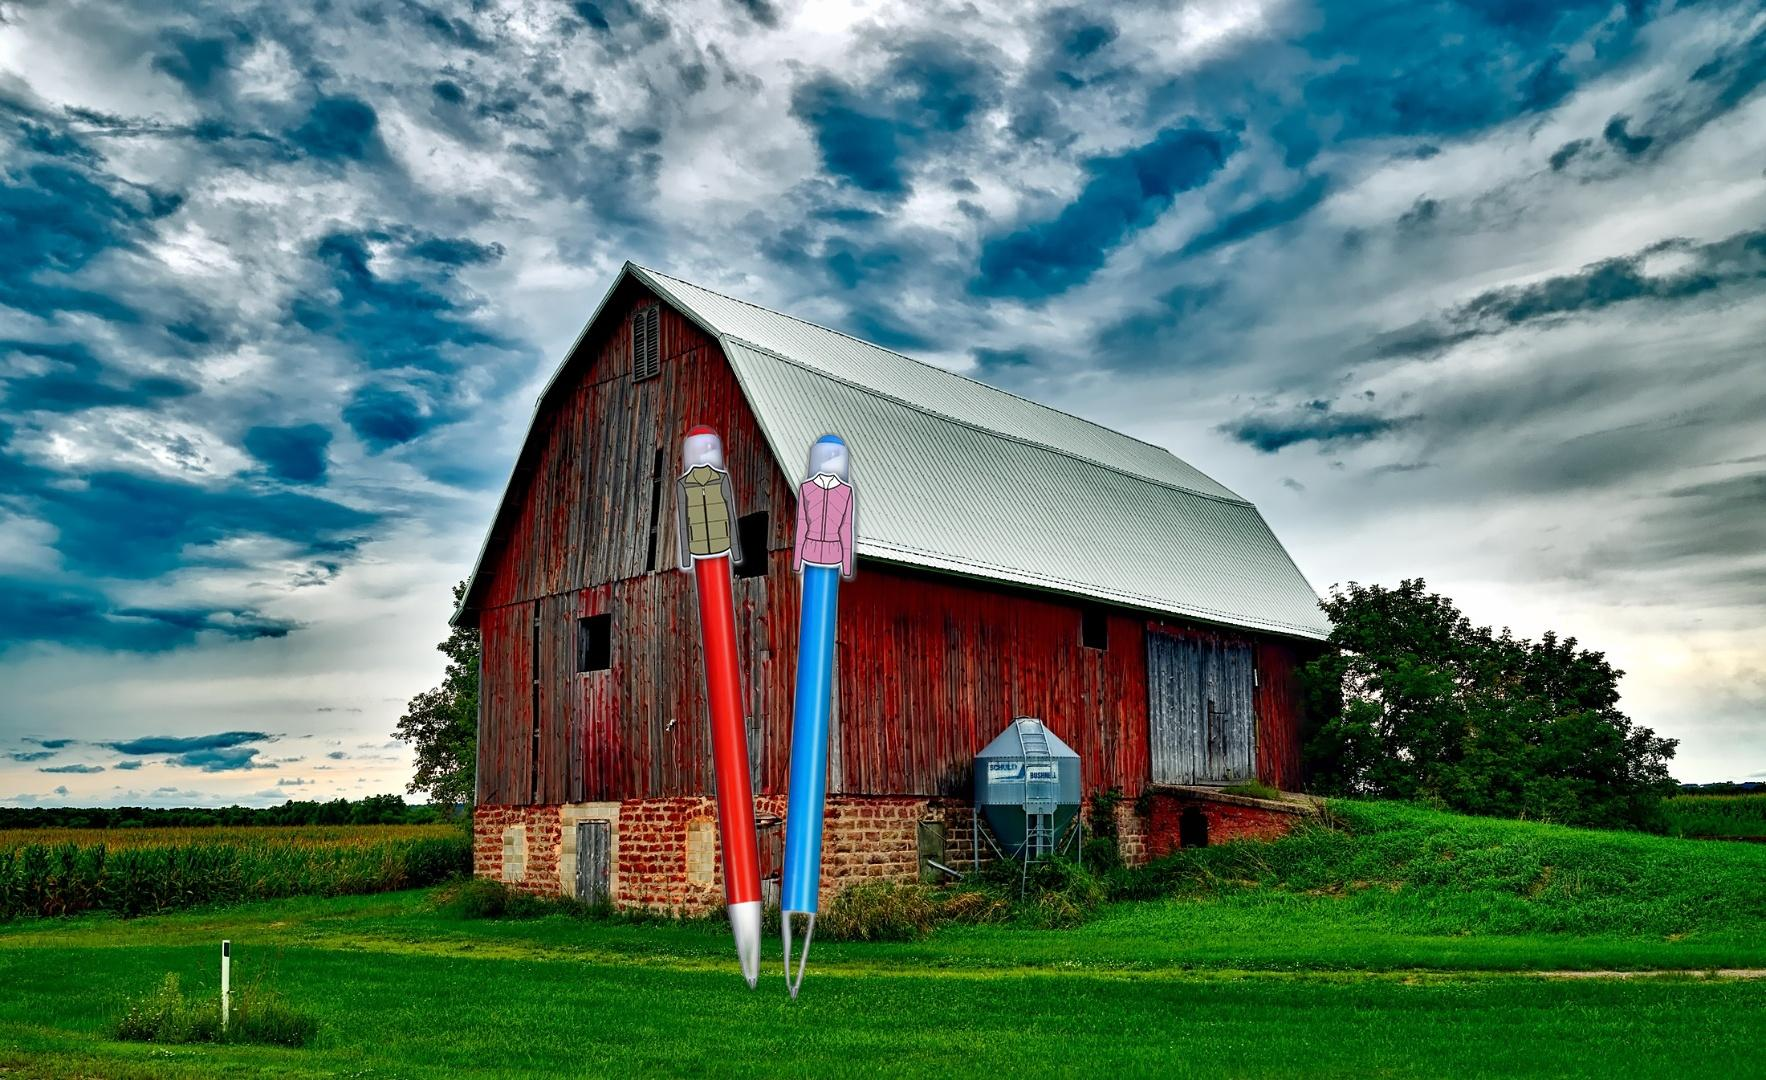penholder: (667, 418, 864, 1007)
plastic-bottles: (1698, 757, 1766, 1080)
